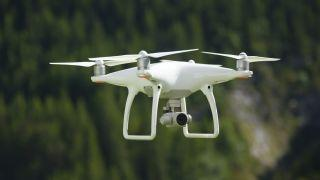drone_other: (49, 49, 281, 142)
